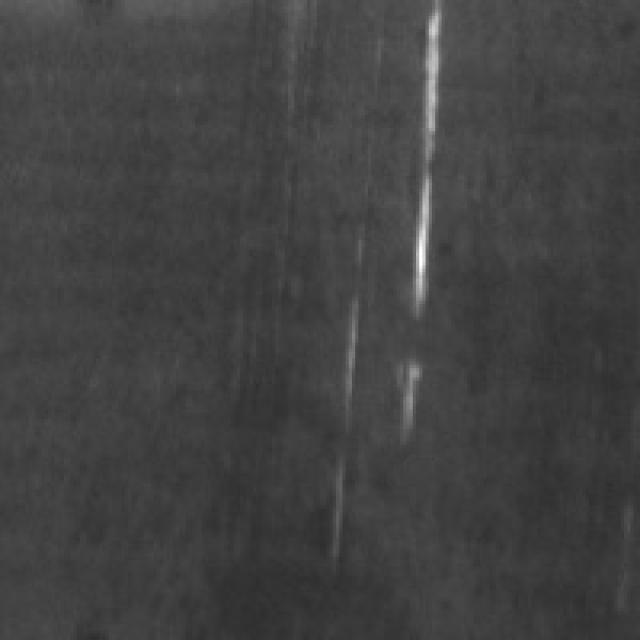scratches: (384, 0, 442, 426)
